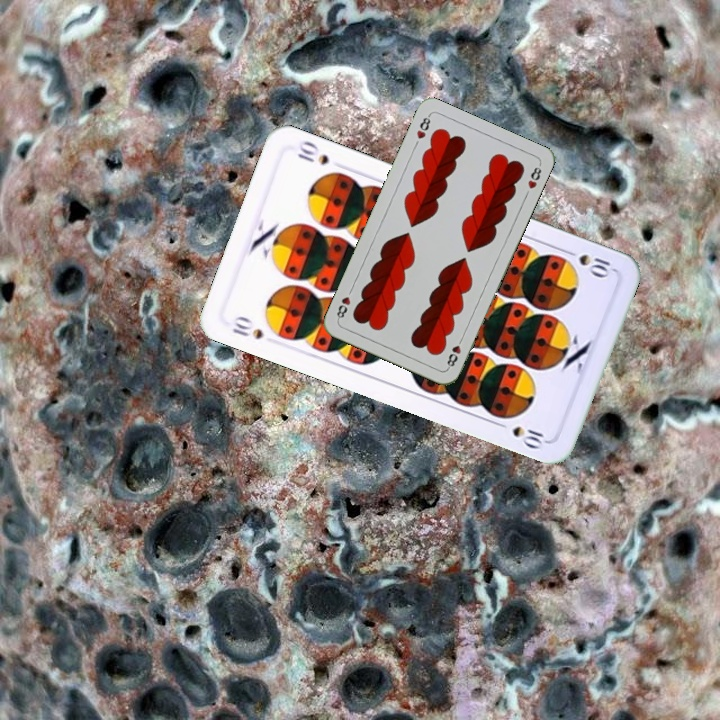H8: (443, 332, 466, 371), (412, 111, 433, 141)
S10: (560, 245, 613, 280), (228, 312, 266, 342)
